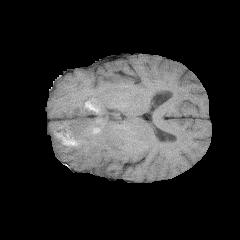glioma: (52, 96, 131, 169)
